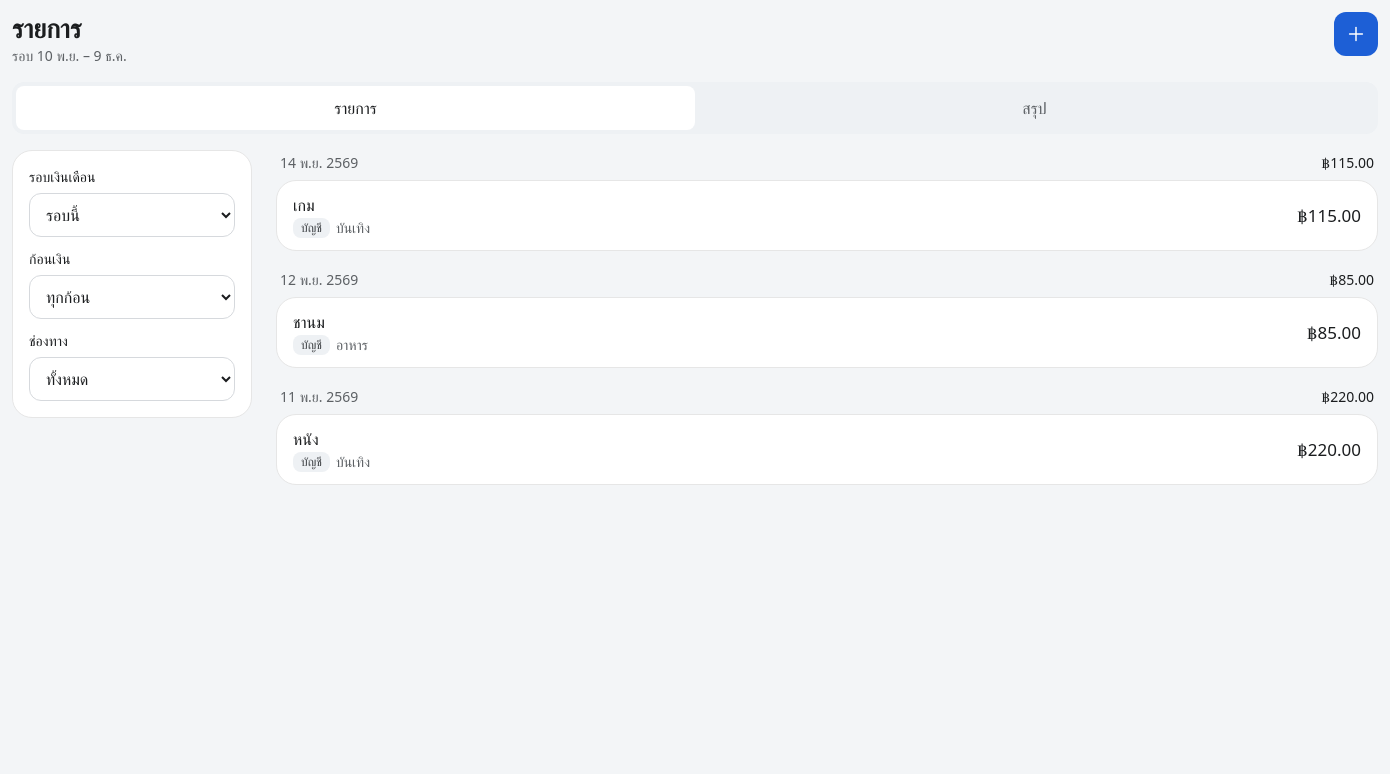
Scenario: /entries summary tab › supports browser Back navigation between list, ?view=summary, and ?category=...
Later steps or results of the test are not shown.
Step 1. Click the tab "สรุป" → (1034, 108), box [695,86,1374,130]
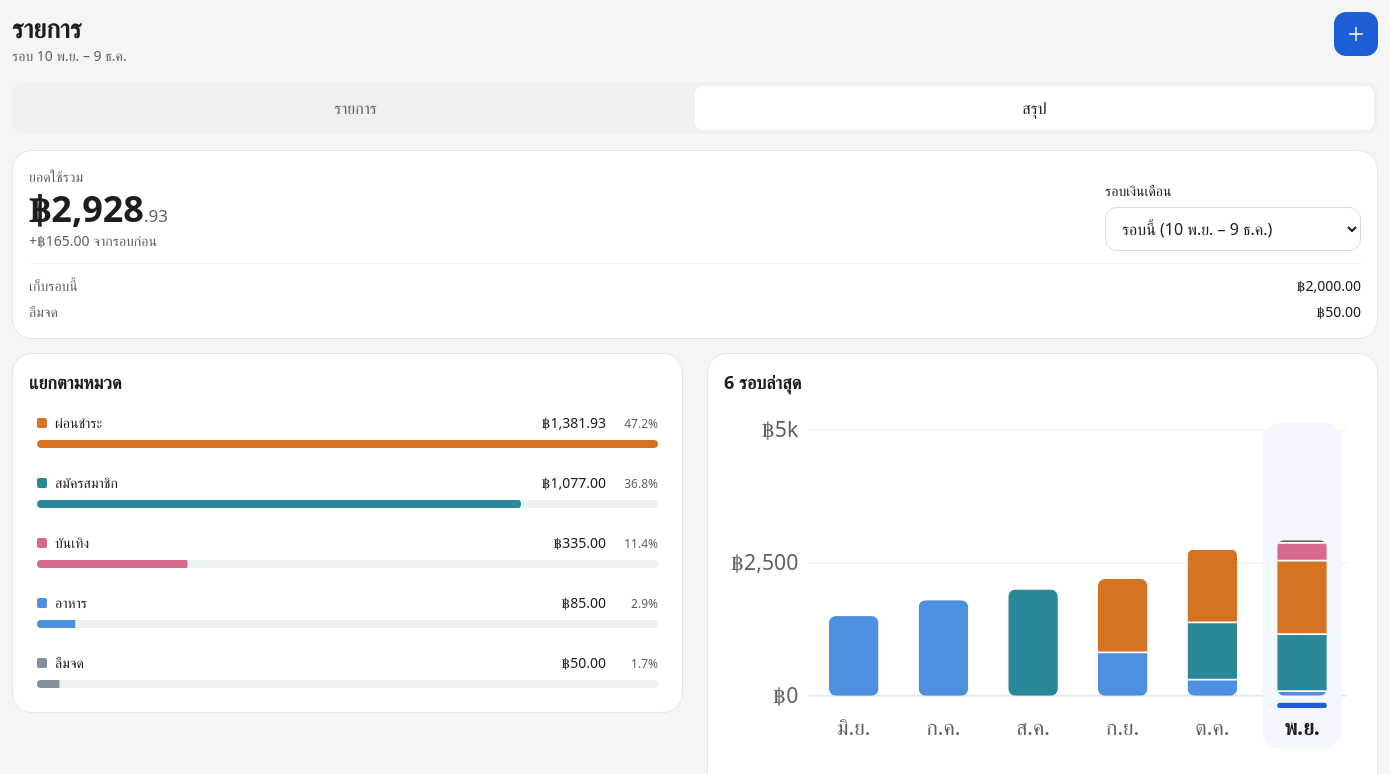
Step 2. Click the button "บันเทิง ฿335.00 11.4%" → (72, 542), box [29,522,666,576]
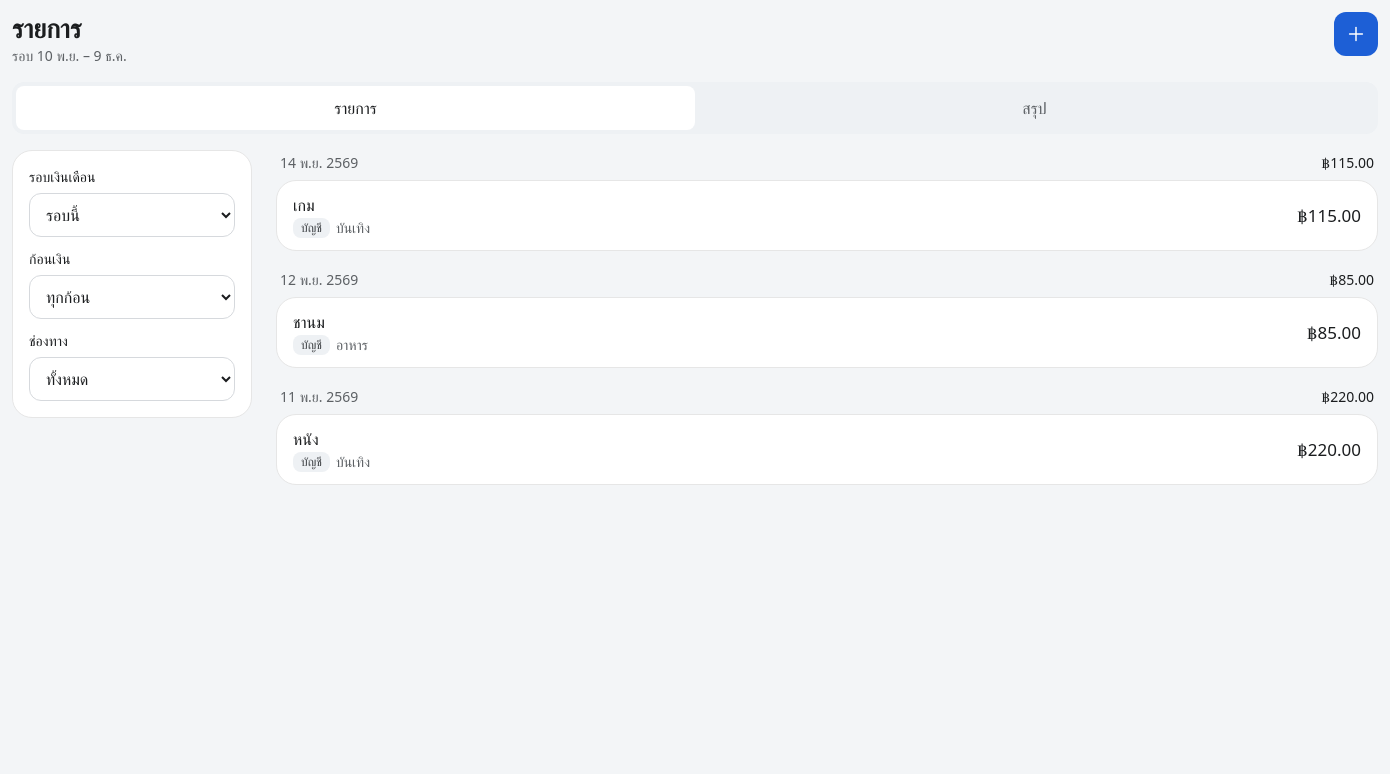
Now the text "หนัง" is shown, box [293,428,319,450]
Now the text "ชานม" is shown, box [293,311,325,333]
